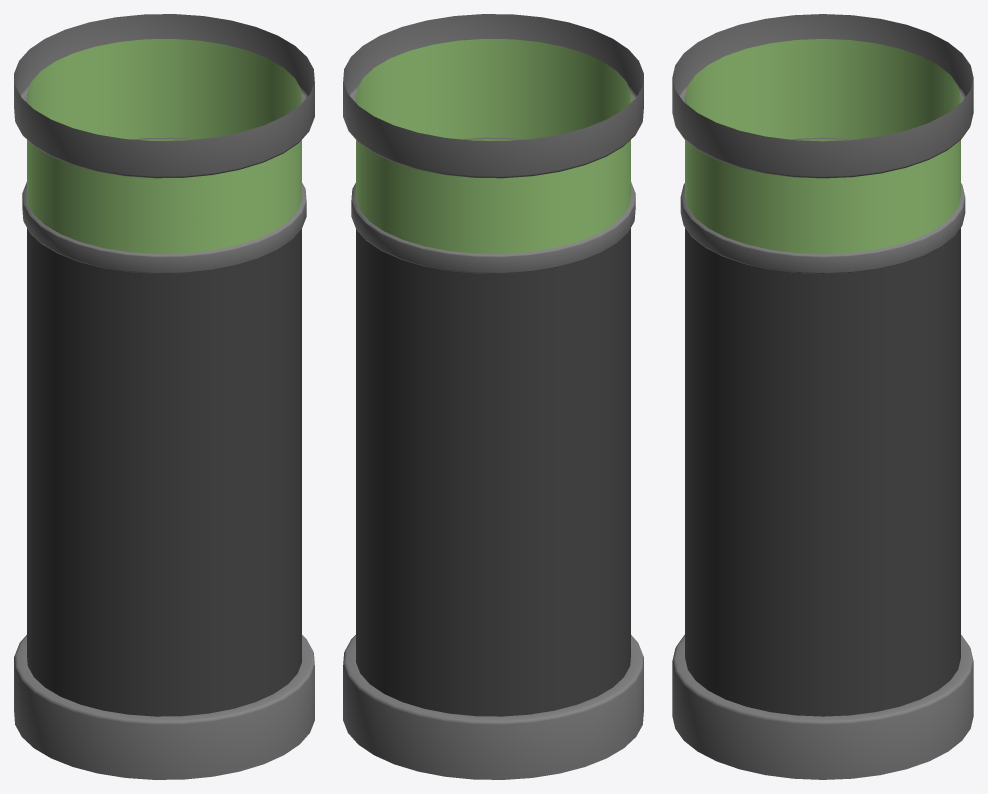
The model's file is SM_pillar_metro_01.fbx.
3 renders of one model, left to right at view 1: azimuth 30°, elevation 25°; view 2: azimuth 150°, elevation 25°; view 3: azimuth 270°, elevation 25°, orthographic.
Visible parts, largest first — view 1: Object1284493; view 2: Object1284493; view 3: Object1284493.
Part boxes in pixels (x1,y1,x2,y2): Object1284493: (14, 14, 314, 779); Object1284493: (343, 14, 643, 779); Object1284493: (672, 14, 973, 779).
Bounding box in the file's own units: 72.23 × 169 × 72.23.
